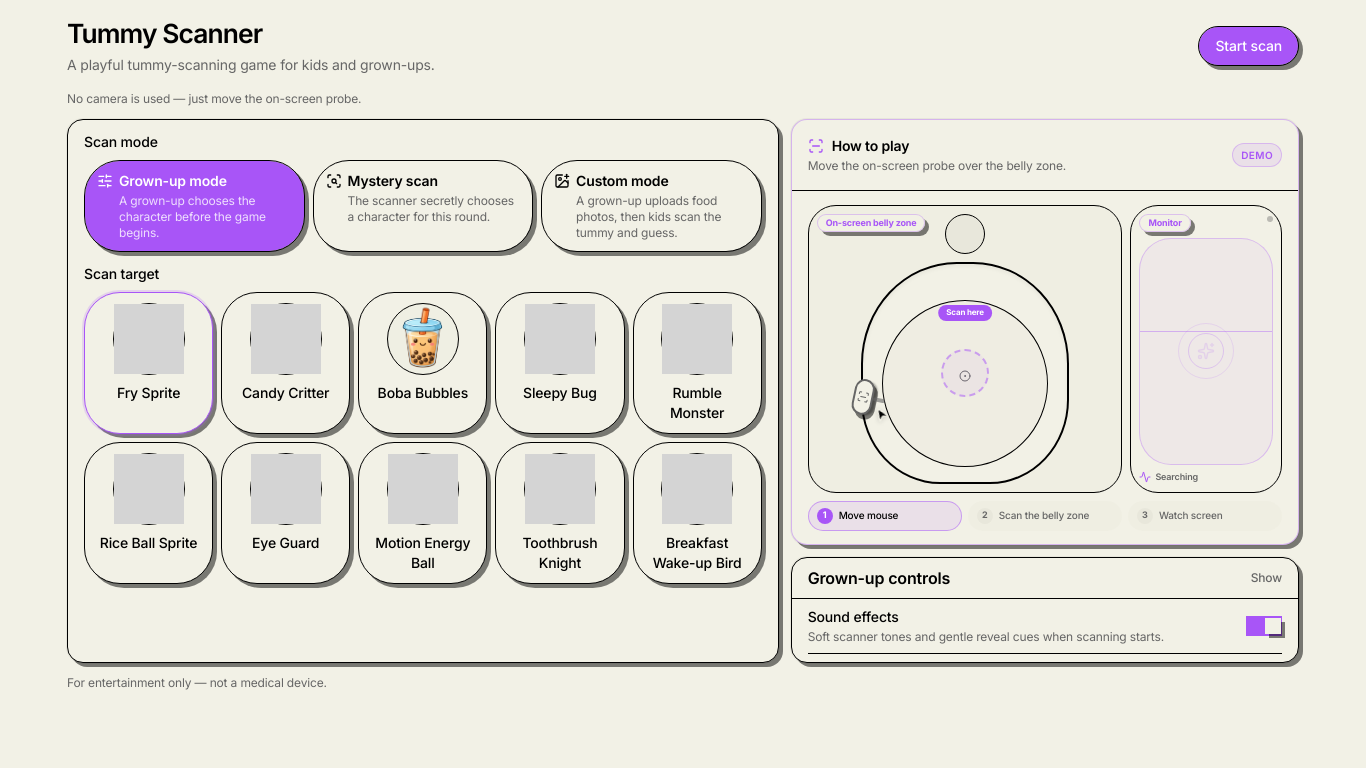
Test: DuduScannerApp controls › reveals and locks through the touch operator bar
Click the button "Start scan".
click(1249, 46)  # box [1198, 26, 1299, 66]
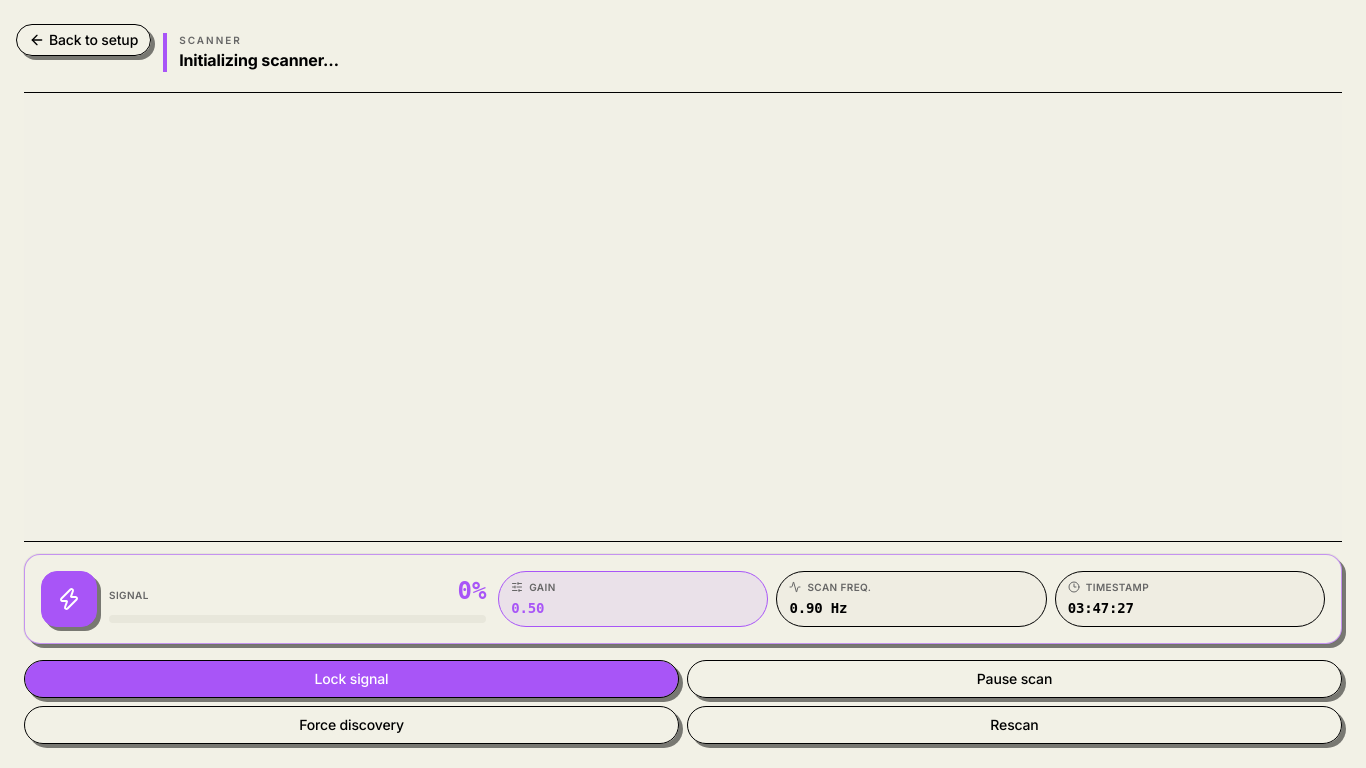
Result: the element with test id "dudu-scanner-scan-view" is shown
Result: the element with test id "dudu-scanner-operator-bar" is shown at [24, 660, 1342, 744]
Click the button with test id "dudu-scanner-operator-reveal".
click(352, 725)  # box [24, 706, 679, 744]
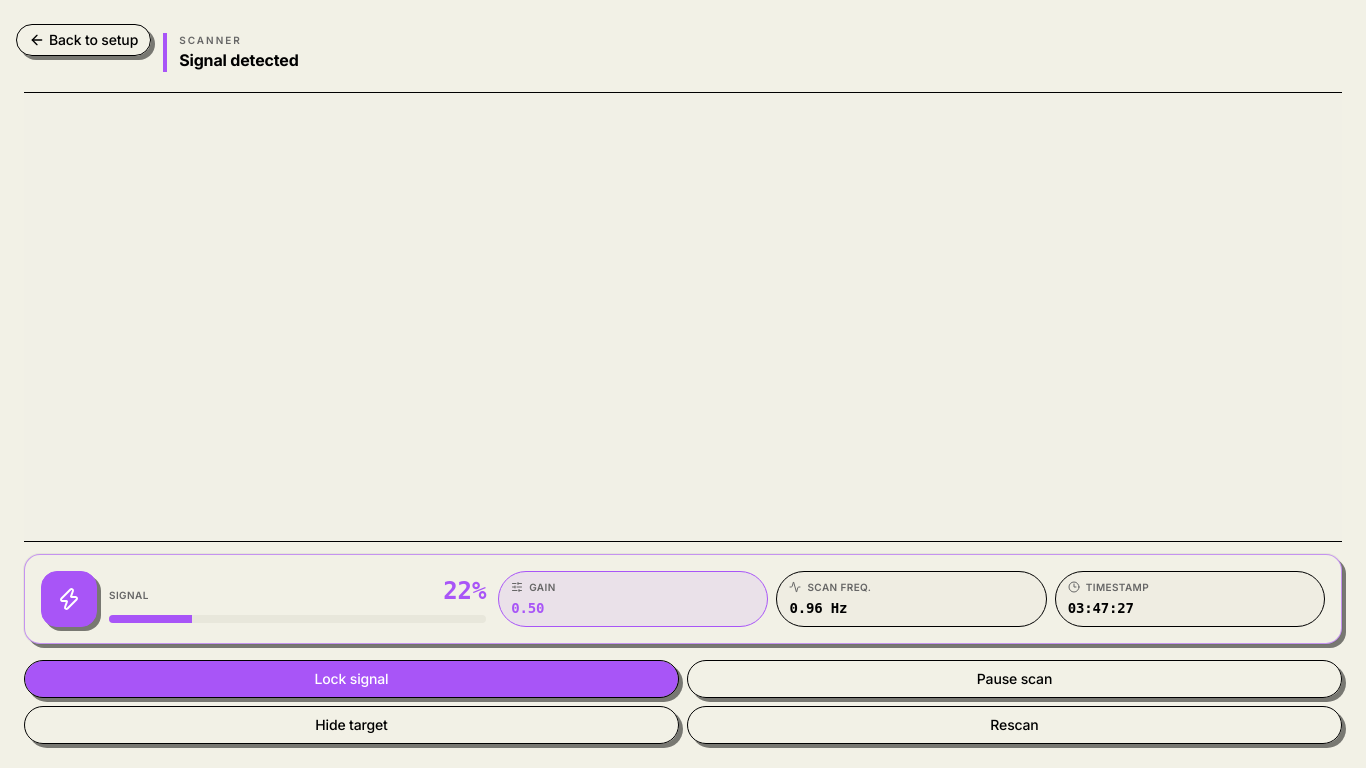
Result: the text with test id "dudu-scanner-status" reads "Signal detected" at [179, 50, 299, 70]
Click the button with test id "dudu-scanner-operator-lock".
click(352, 679)  # box [24, 660, 679, 698]
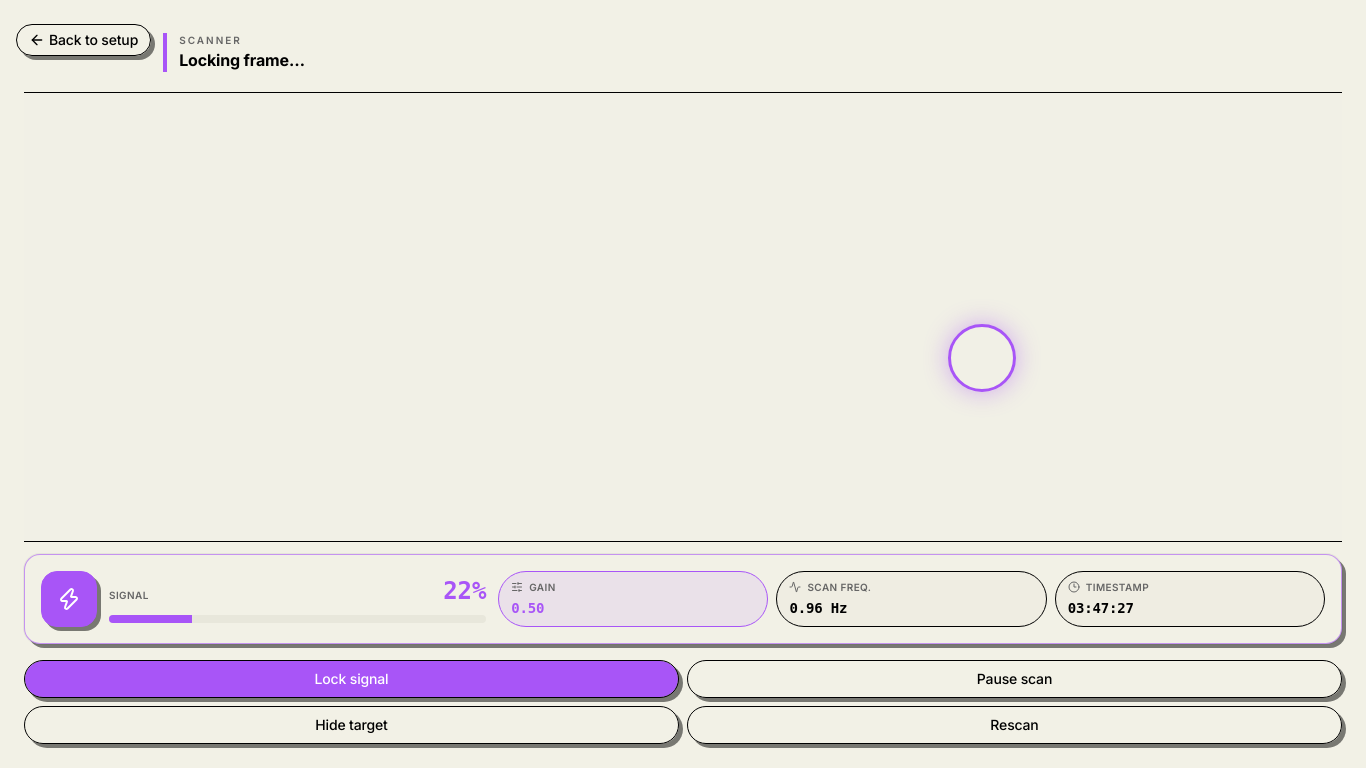
Result: the element with test id "dudu-scanner-lock-frame" is shown at [948, 324, 1016, 392]
